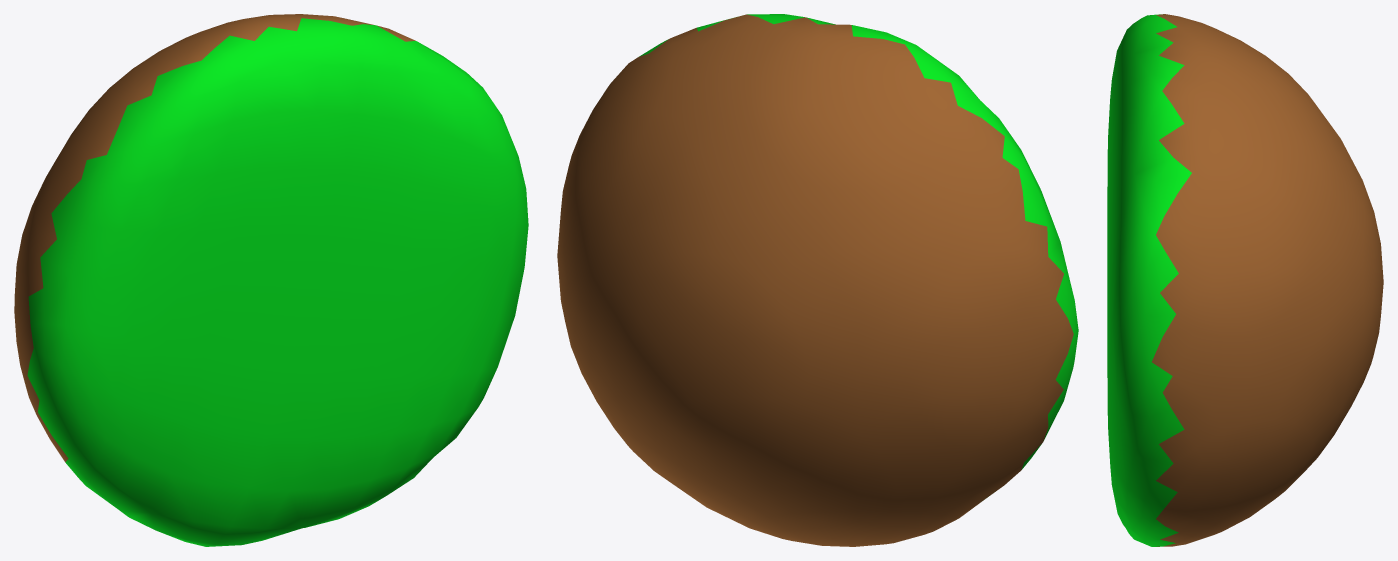
Rendered from Island3.fbx.
3 views of the same model, side by side, from view 1: azimuth 30°, elevation 25°; view 2: azimuth 150°, elevation 25°; view 3: azimuth 270°, elevation 25° (orthographic). The views are drawn at different scales.
Parts seen in each view (by area): view 1: Icosphere; view 2: Icosphere; view 3: Icosphere.
Part boxes in pixels (x1,y1,x2,y2): Icosphere: (14, 14, 528, 546); Icosphere: (557, 14, 1078, 546); Icosphere: (1107, 14, 1383, 546).
Bounding box in the file's own units: 570 × 561 × 295.
